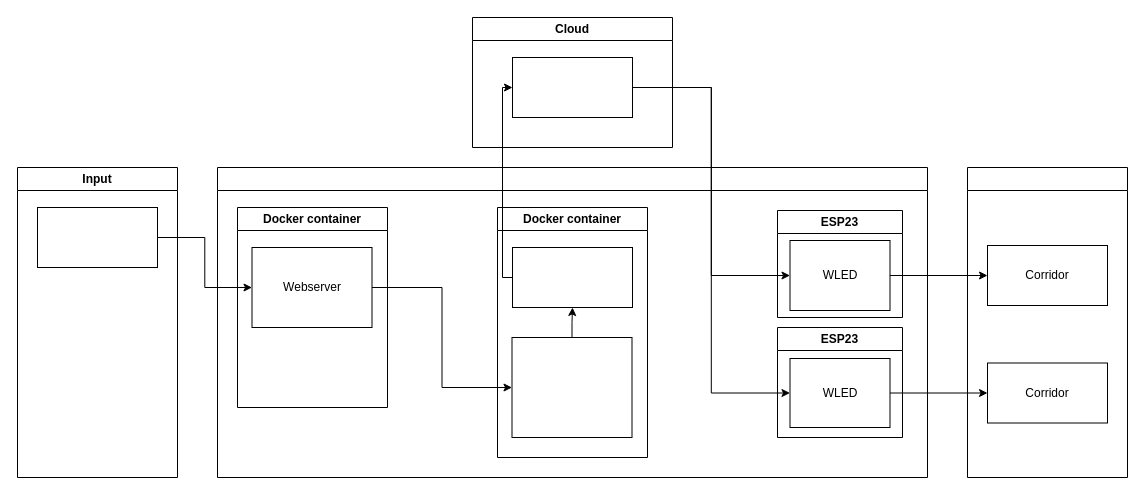
This 1145x495 diagram has some shape labels left out. Here are the shapes that lost their labels. From the top down, the box of each, then its label:
(512, 56, 632, 118): MQTT
(36, 206, 158, 268): End user Website
(512, 246, 632, 308): MQTT broker
(216, 166, 928, 478): Functions
(966, 166, 1128, 478): Output
(511, 336, 632, 438): Server
